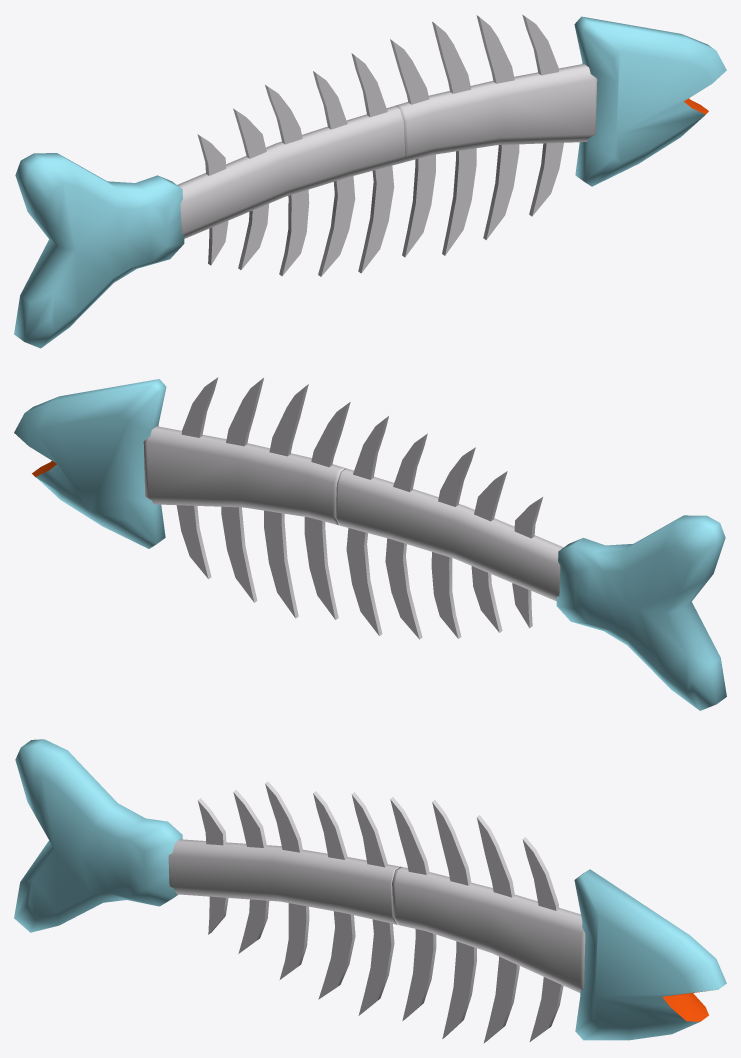
The model's file is SM_FishBone_02a.fbx.
The picture shows the model from 3 angles, top to bottom: view 1: azimuth 30°, elevation 25°; view 2: azimuth 150°, elevation 25°; view 3: azimuth 330°, elevation 25°; orthographic projection.
Parts seen in each view (by area): view 1: FishBone_02, FishBone_01; view 2: FishBone_02, FishBone_01; view 3: FishBone_02, FishBone_01.
Boxes of the visible parts, bbox=[...] form: FishBone_02: bbox=[14, 53, 405, 348]; FishBone_01: bbox=[390, 14, 726, 257]; FishBone_02: bbox=[335, 416, 726, 710]; FishBone_01: bbox=[14, 377, 350, 619]; FishBone_02: bbox=[14, 739, 399, 1015]; FishBone_01: bbox=[390, 797, 726, 1043].
Size of the model in its own units: 111 by 35.33 by 5.84.
